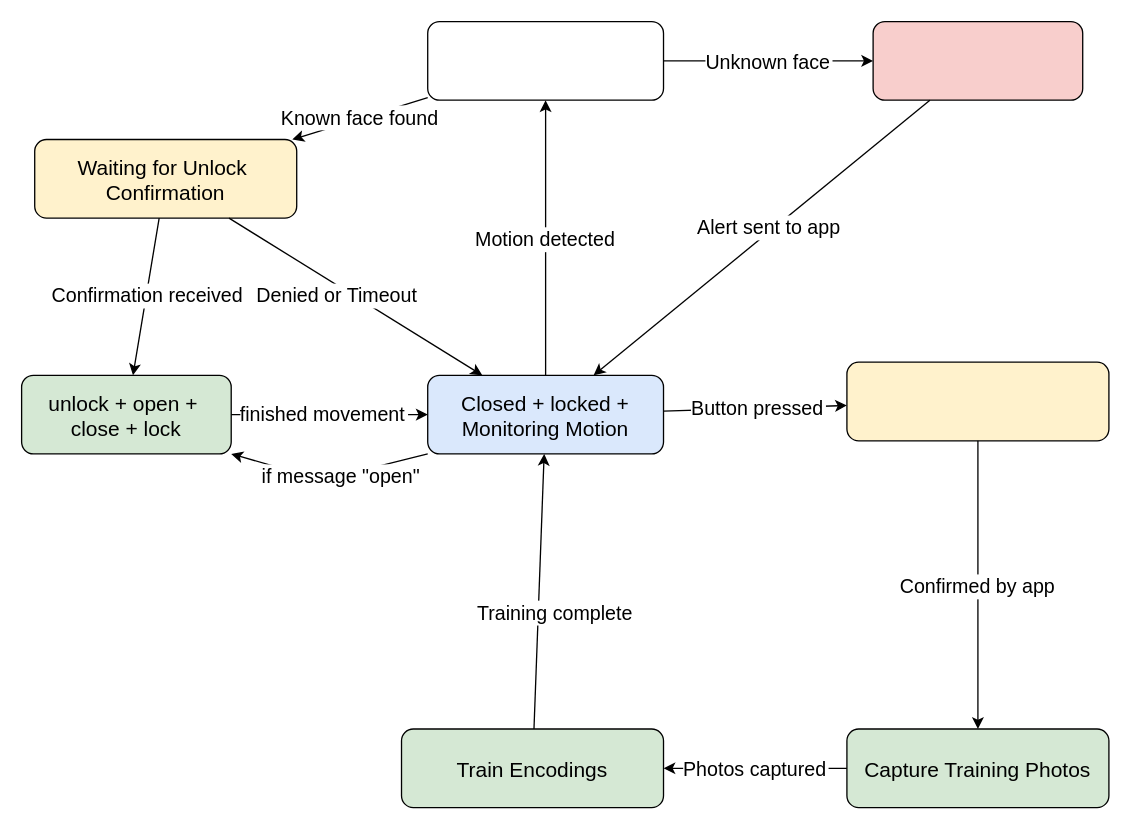
This 1131x829 diagram has some shape labels left out. Here are the shapes that lost their labels. From the top down, the centre of each, then its label:
the point at 545,60: Face Recognition Running
the point at 977,60: Alert Unknown Face
the point at 977,401: Waiting for App Confirm
